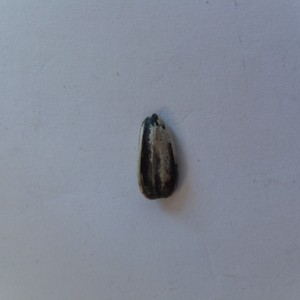girasol: (133, 111, 184, 203)
